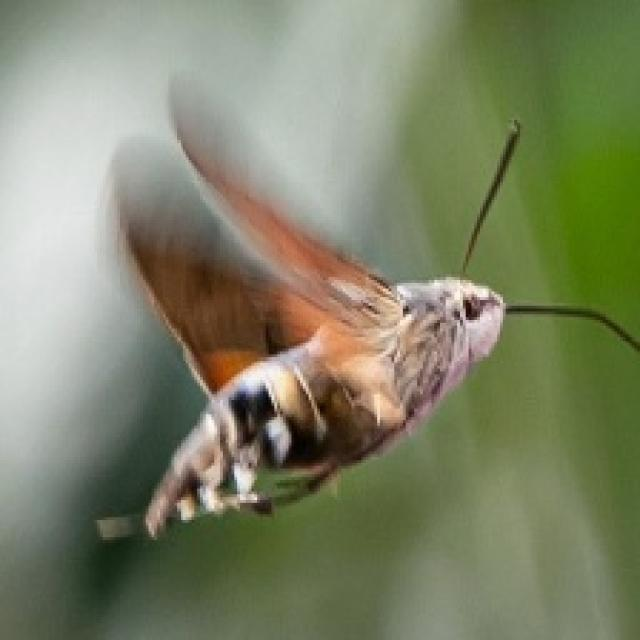butterfly: (89, 68, 637, 546)
